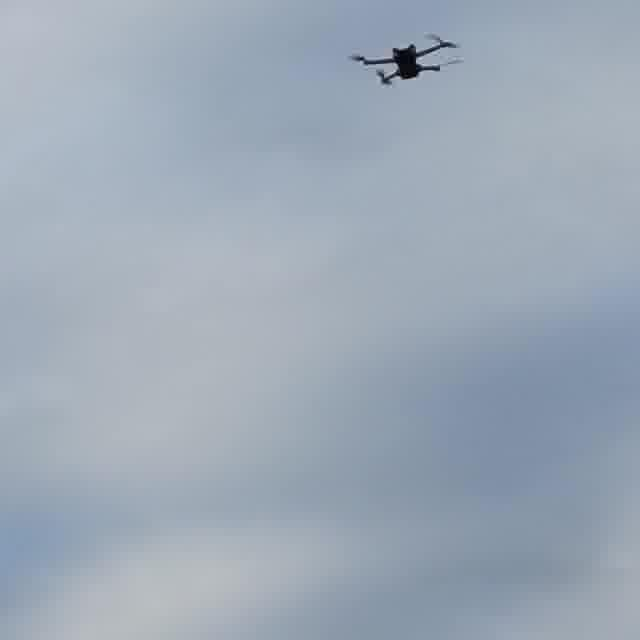Drohne: (351, 34, 461, 85)
